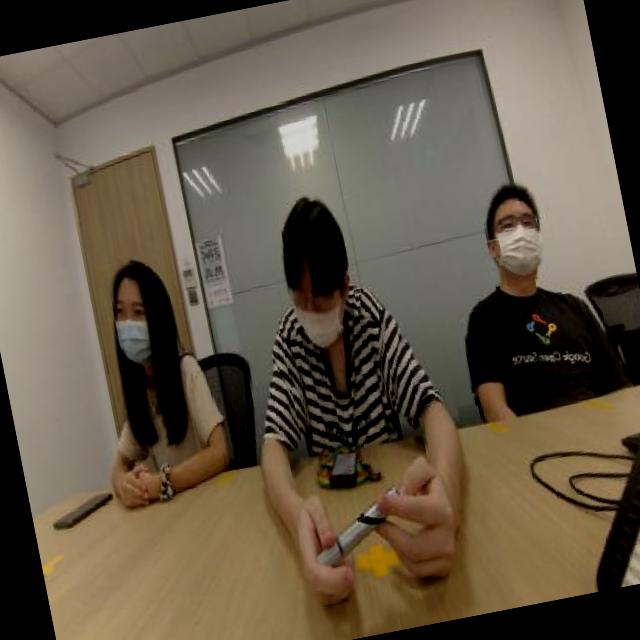Person: (438, 90, 616, 400), (248, 123, 409, 434), (80, 207, 244, 506)
